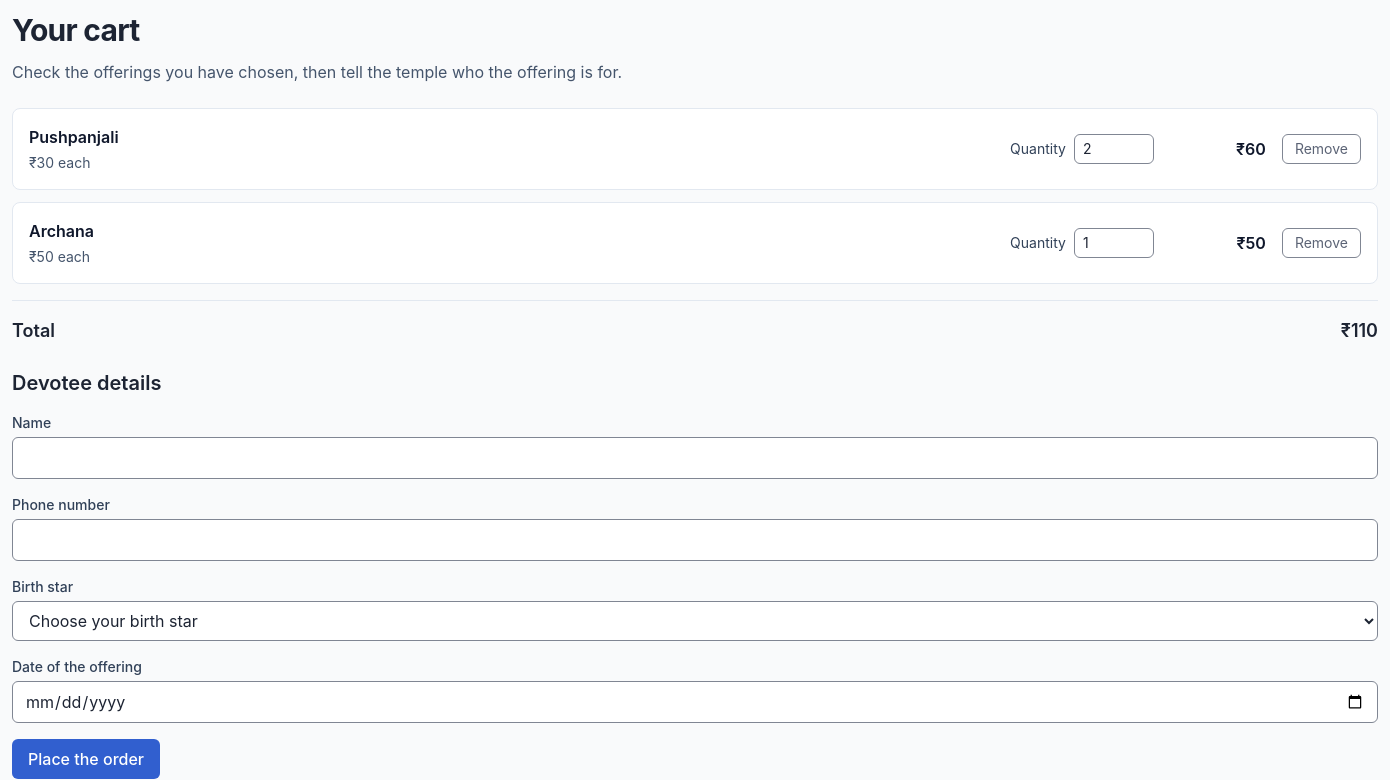
Test case: Cart › retotals when the devotee changes a quantity
Replace the text in the number field named "Quantity of Pushpanjali" with "4": (1114, 149) [1074,134,1154,164]
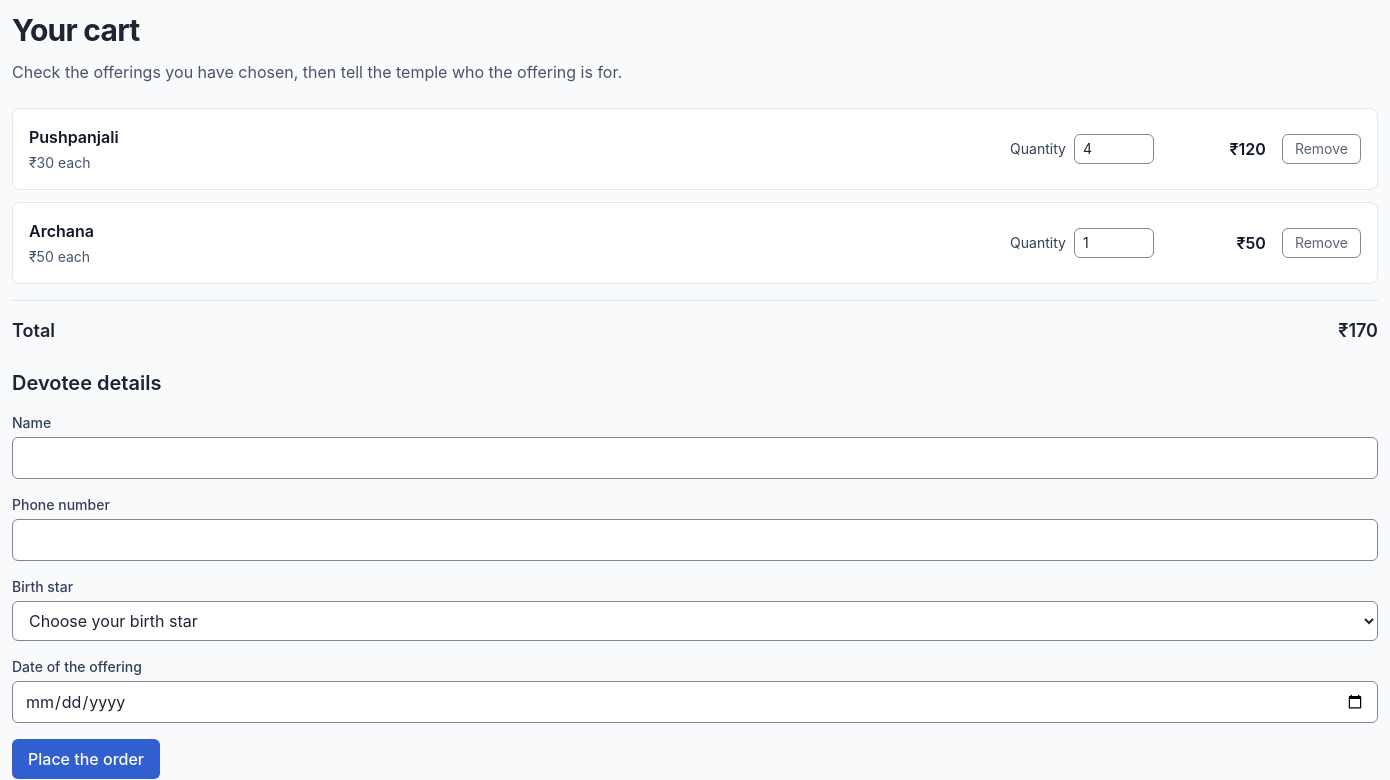
Check: the text "Total" shows "₹170", box [1338,320,1378,341]
